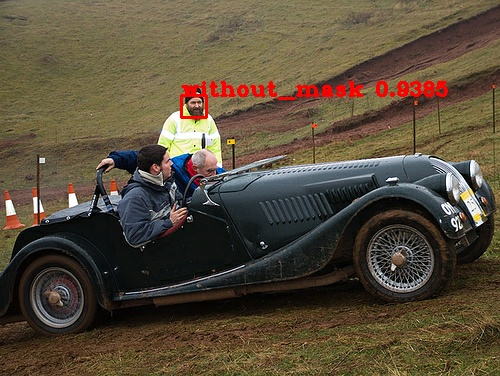without_mask: (141, 146, 175, 180), (188, 149, 220, 184), (183, 91, 208, 118)
